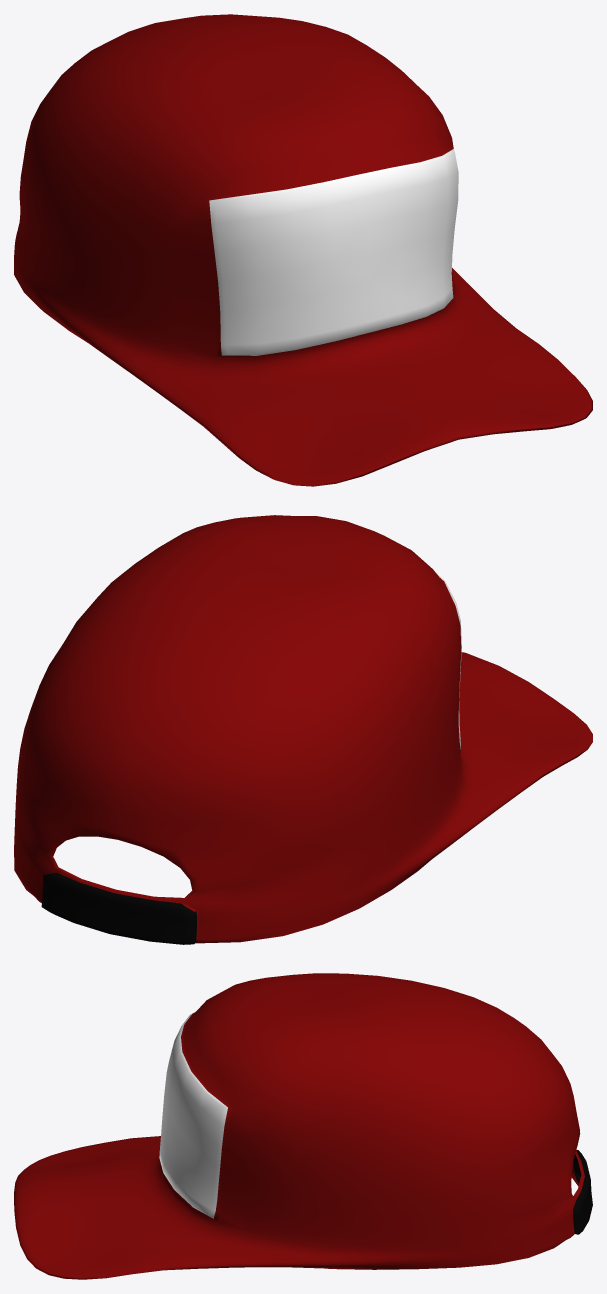
The model's file is trucker_hat.fbx.
3 renders of one model, top to bottom at view 1: azimuth 30°, elevation 25°; view 2: azimuth 150°, elevation 25°; view 3: azimuth 270°, elevation 25°, orthographic. The views are drawn at different scales.
Parts seen in each view (by area): view 1: trucker_hat; view 2: trucker_hat; view 3: trucker_hat.
Boxes of the visible parts, box(x1,y1,x2,y2) form: trucker_hat: box(14, 14, 592, 486); trucker_hat: box(14, 515, 592, 944); trucker_hat: box(14, 973, 592, 1279).
Bounding box in the file's own units: 14.41 × 25.04 × 10.41.
